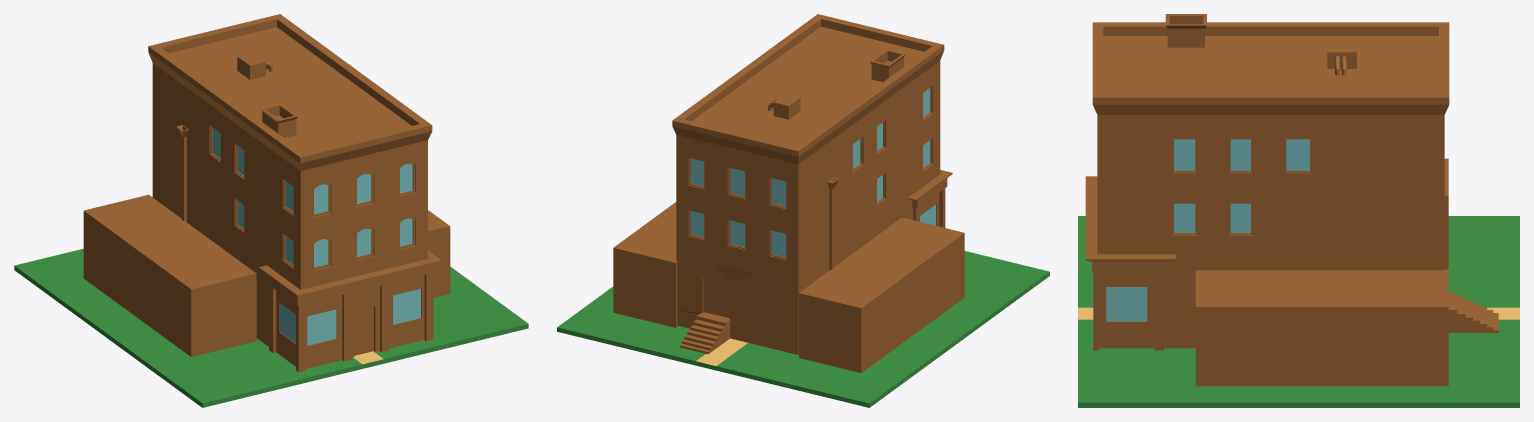
File: School Block.fbx
The picture shows the model from 3 angles, left to right: view 1: azimuth 30°, elevation 25°; view 2: azimuth 150°, elevation 25°; view 3: azimuth 270°, elevation 25°; orthographic projection. The views are drawn at different scales.
Parts seen in each view (by area): view 1: Cube, Cube_2, Block_8, Cube_001, Cube_1; view 2: Cube, Block_8, Cube_2, Cube_1, Cube_001; view 3: Cube, Cube_1, Block_8, Cube_001, Cube_2.
Part boxes in pixels (box(x1,y1,x2,y2)): Cube: box(148, 14, 441, 372); Cube_2: box(83, 194, 256, 356); Block_8: box(14, 248, 528, 407); Cube_001: box(213, 128, 420, 345); Cube_1: box(428, 210, 450, 297); Cube: box(672, 14, 952, 354); Block_8: box(557, 251, 1049, 407); Cube_2: box(799, 217, 964, 372); Cube_1: box(613, 202, 677, 327); Cube_001: box(690, 88, 935, 257); Cube: box(1085, 14, 1498, 350); Cube_1: box(1195, 269, 1448, 386); Block_8: box(1078, 216, 1519, 407); Cube_001: box(1106, 139, 1309, 321); Cube_2: box(1444, 158, 1448, 269).
Size of the model in its own units: 300 by 204 by 300.
